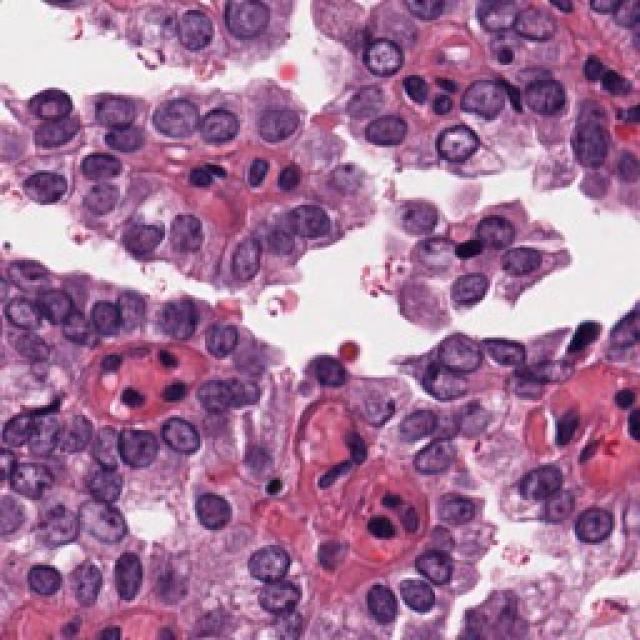abnormal: (168, 461, 264, 551), (133, 73, 220, 168), (198, 0, 320, 60), (83, 544, 165, 628), (68, 480, 152, 560), (137, 394, 215, 478), (227, 525, 325, 590), (12, 65, 87, 147), (142, 400, 213, 482), (110, 192, 177, 278), (241, 82, 311, 163), (397, 530, 473, 600), (358, 23, 430, 95), (212, 222, 270, 310), (110, 398, 167, 480), (432, 105, 492, 182), (500, 452, 582, 508), (437, 318, 495, 394), (567, 495, 628, 567), (350, 567, 410, 638), (23, 265, 80, 337), (338, 571, 393, 640), (151, 283, 201, 352)
